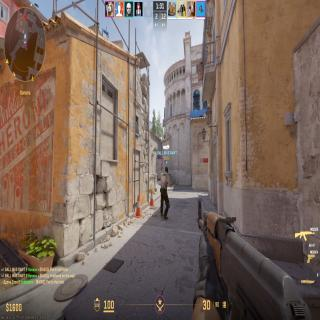CT-Head: (158, 155, 159, 158)
T-Body: (160, 167, 170, 220)
T-Head: (165, 166, 168, 174)
